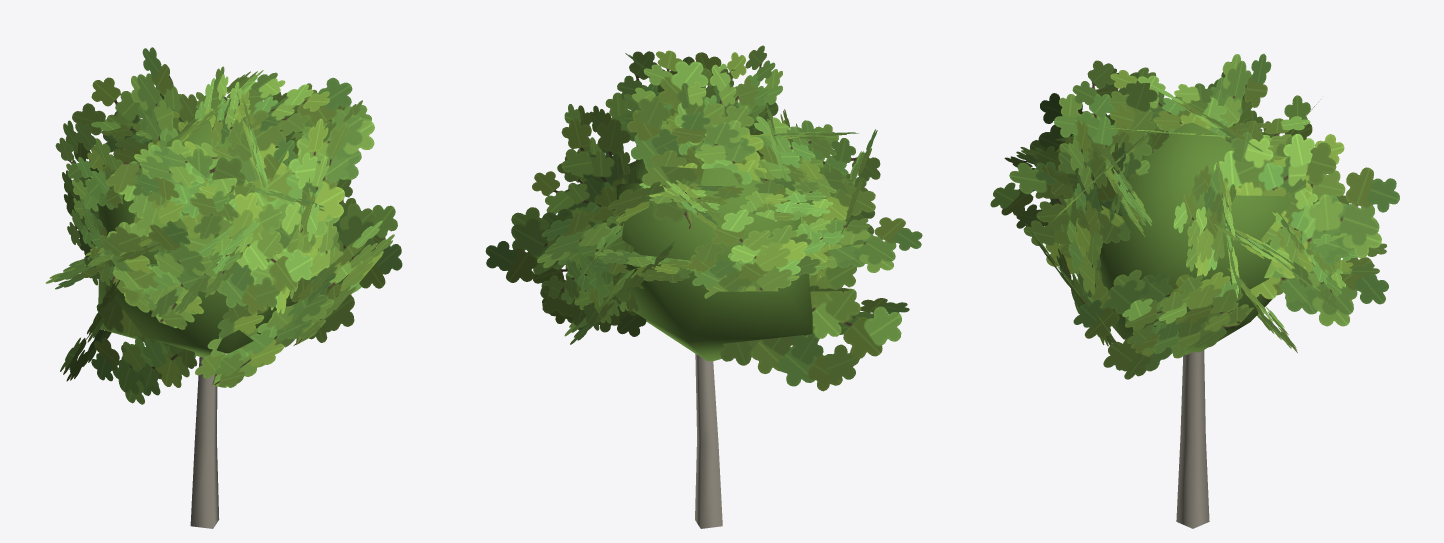
The model's file is PLATANUS_2.glb.
3 renders of one model, left to right at view 1: azimuth 30°, elevation 25°; view 2: azimuth 150°, elevation 25°; view 3: azimuth 270°, elevation 25°, orthographic. The views are drawn at different scales.
Visible parts, largest first — view 1: Arv_PLATANUS_lod2; view 2: Arv_PLATANUS_lod2; view 3: Arv_PLATANUS_lod2.
Boxes of the visible parts, <box> form: Arv_PLATANUS_lod2: <box>45,47,402,528</box>; Arv_PLATANUS_lod2: <box>485,45,922,528</box>; Arv_PLATANUS_lod2: <box>990,53,1399,528</box>.
Bounding box in the file's own units: 9.82 × 11.66 × 9.87.
3 materials, 1 textured.
